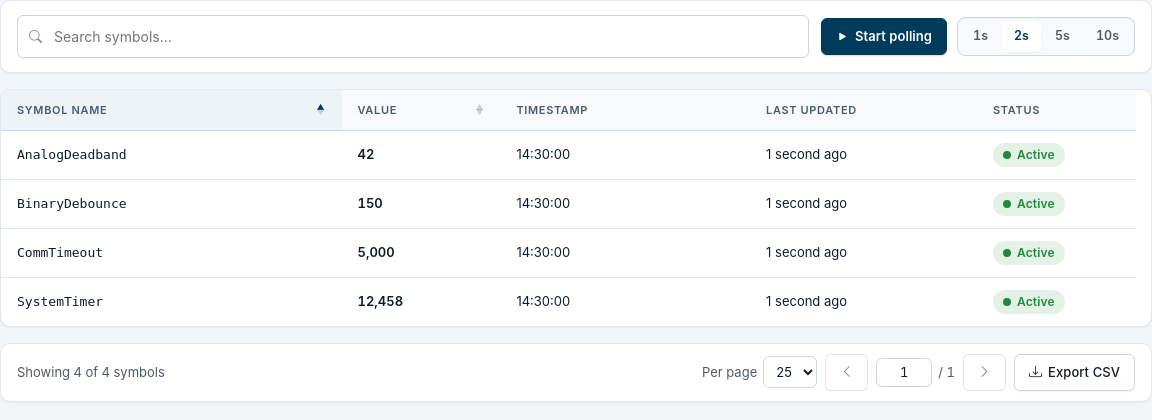
Test: SymbolsDashboard › filters by search term
Step 1. Type "comm" into the search field with placeholder "Search symbols…" → (413, 36), box [17,15,809,58]
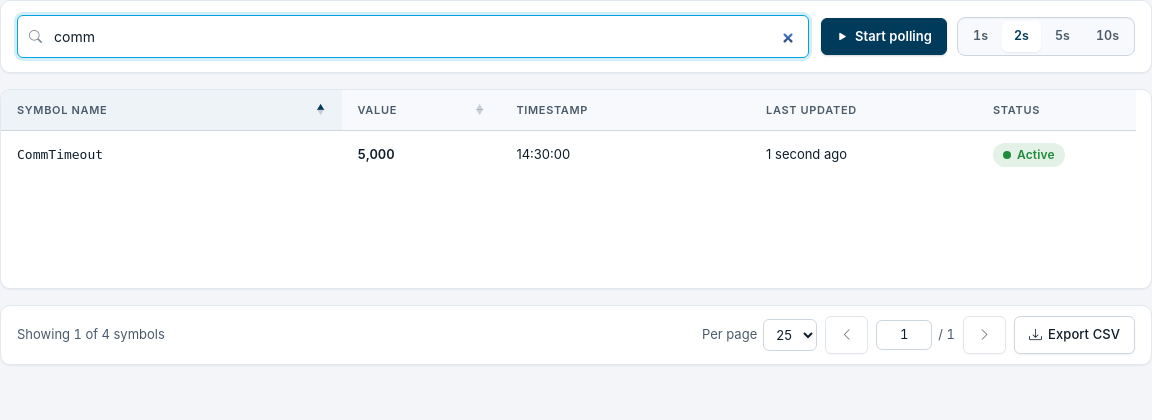
Check: the text "CommTimeout" is shown, box [1,130,342,178]
Check: the text "SystemTimer" is gone
